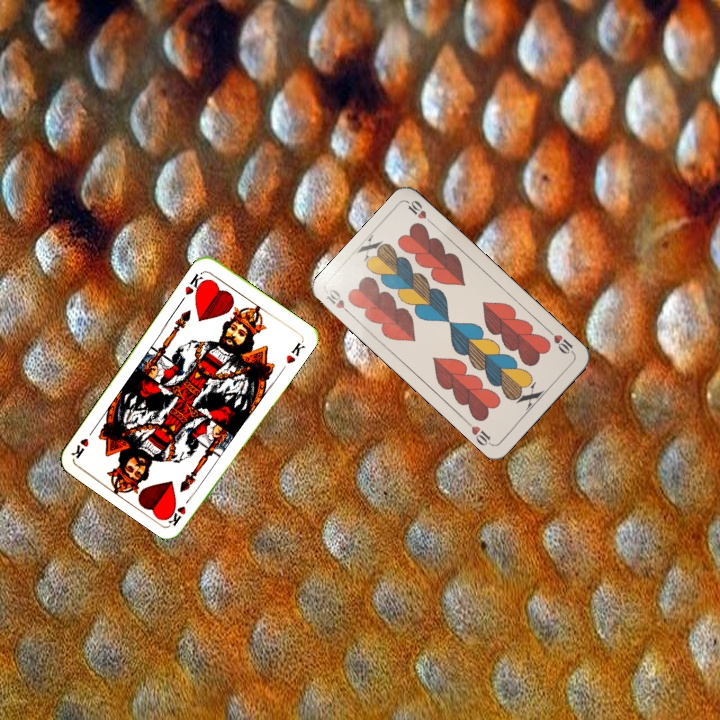H10: (322, 285, 356, 319), (544, 326, 577, 357)
HK: (165, 491, 196, 528), (181, 268, 209, 298)
